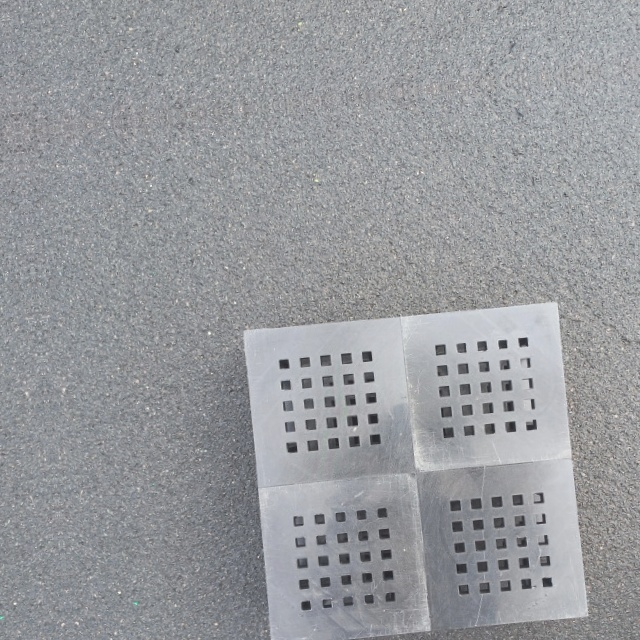pallet: (236, 296, 597, 638)
